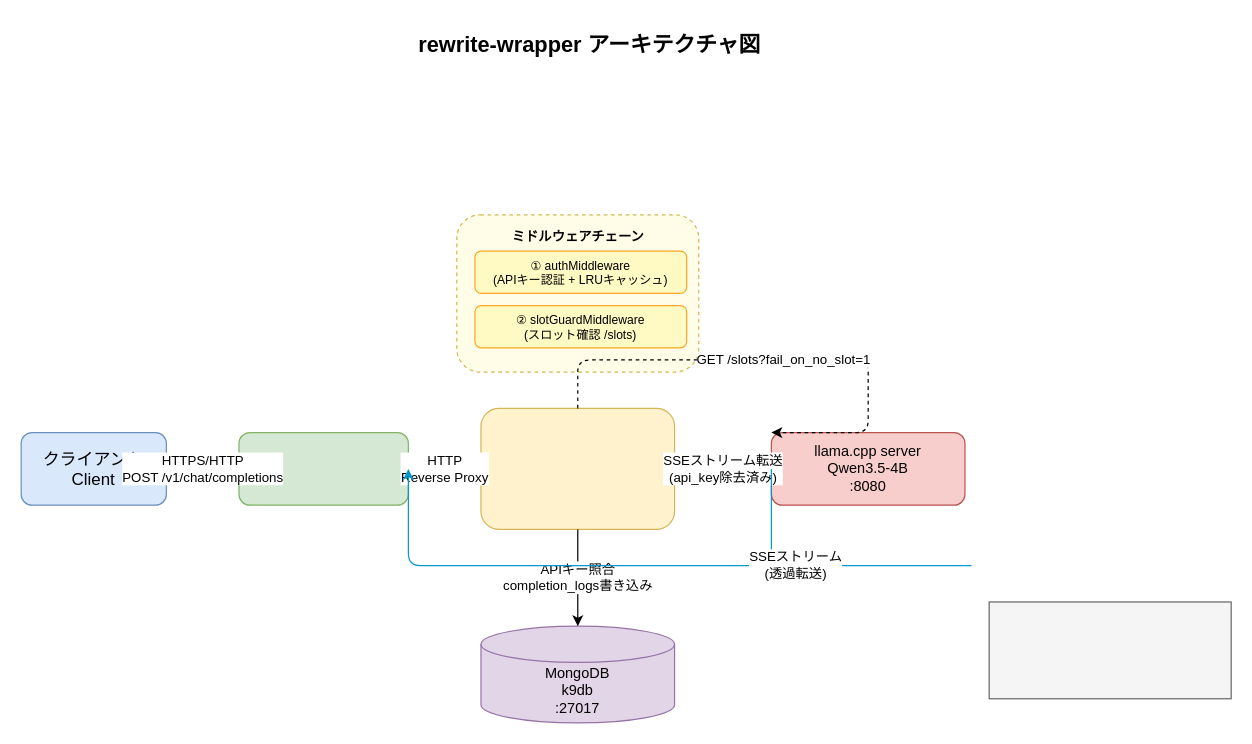
The diagram is 1252 pixels wide and 744 high, and some of its shapes have lost their labels. Each missing label, with the centre of its shape:
nginx (リバースプロキシ): the point at 323,468
rewrite-wrapper Bun + Hono :3000: the point at 577,468
凡例 / Legend ━━ リクエスト / Request ━━ (青) レスポンス / Response - - スロット確認 / Slot check: the point at 1109,650
